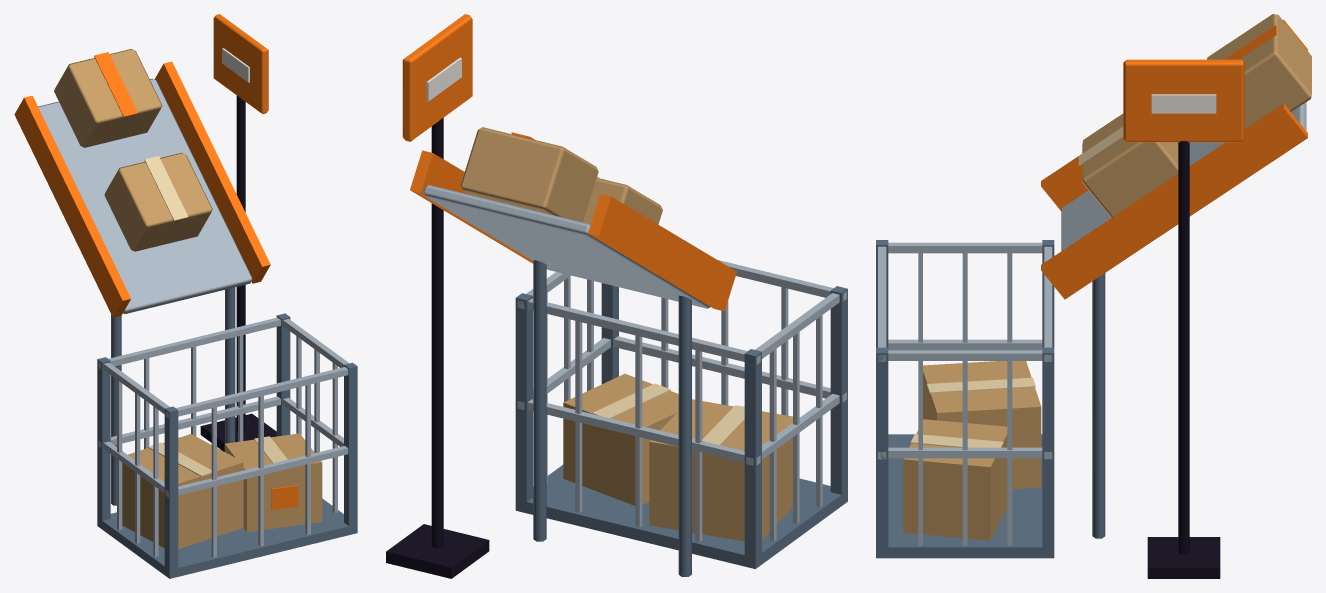
Rendered from station_transport_ausstattung_1_3.glb.
3 renders of one model, left to right at view 1: azimuth 30°, elevation 25°; view 2: azimuth 150°, elevation 25°; view 3: azimuth 270°, elevation 25°, orthographic. The views are drawn at different scales.
Parts seen in each view (by area): view 1: station_transport_ausstattung_1_3; view 2: station_transport_ausstattung_1_3; view 3: station_transport_ausstattung_1_3.
Boxes of the visible parts, left/top/right/bottom form: station_transport_ausstattung_1_3: left=14, top=14, right=357, bottom=578; station_transport_ausstattung_1_3: left=386, top=14, right=847, bottom=578; station_transport_ausstattung_1_3: left=876, top=14, right=1311, bottom=578.
Bounding box in the file's own units: 0.78 × 1.37 × 1.08.
